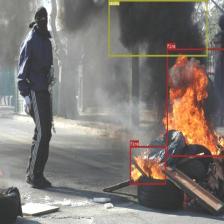fire: (166, 48, 224, 156), (130, 146, 166, 184)
smoke: (108, 0, 207, 56)
